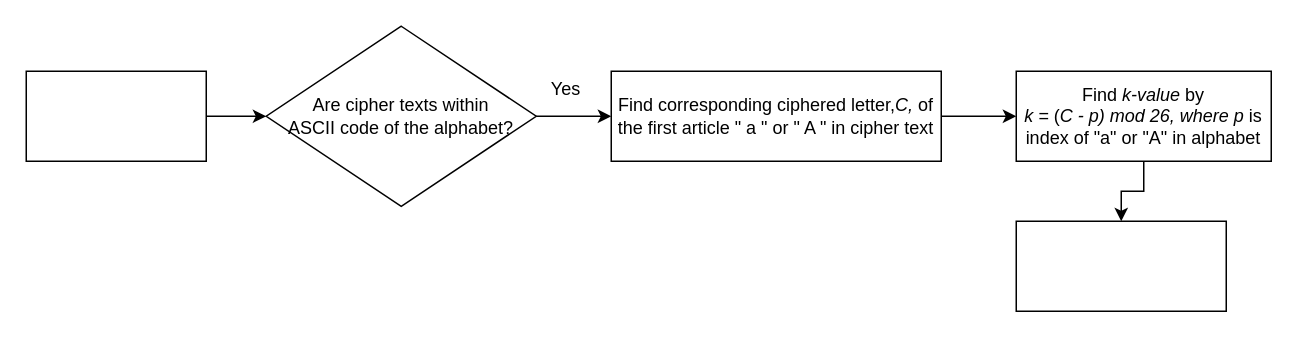
The diagram is 1298 pixels wide and 338 high, and some of its shapes have lost their labels. Here are the shapes that lost their labels. From the top down, the box of each, then its label:
(25, 70, 206, 161): Receive cipher texts
(1015, 220, 1226, 311): Find k-value by C - p
